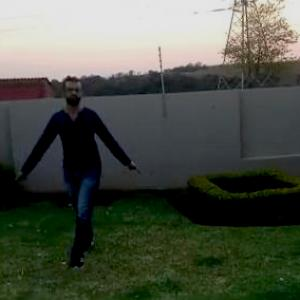land: (8, 69, 132, 276)
